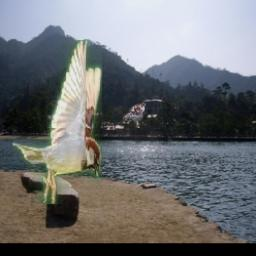Sparrow: (13, 40, 103, 204), (123, 103, 146, 128)
